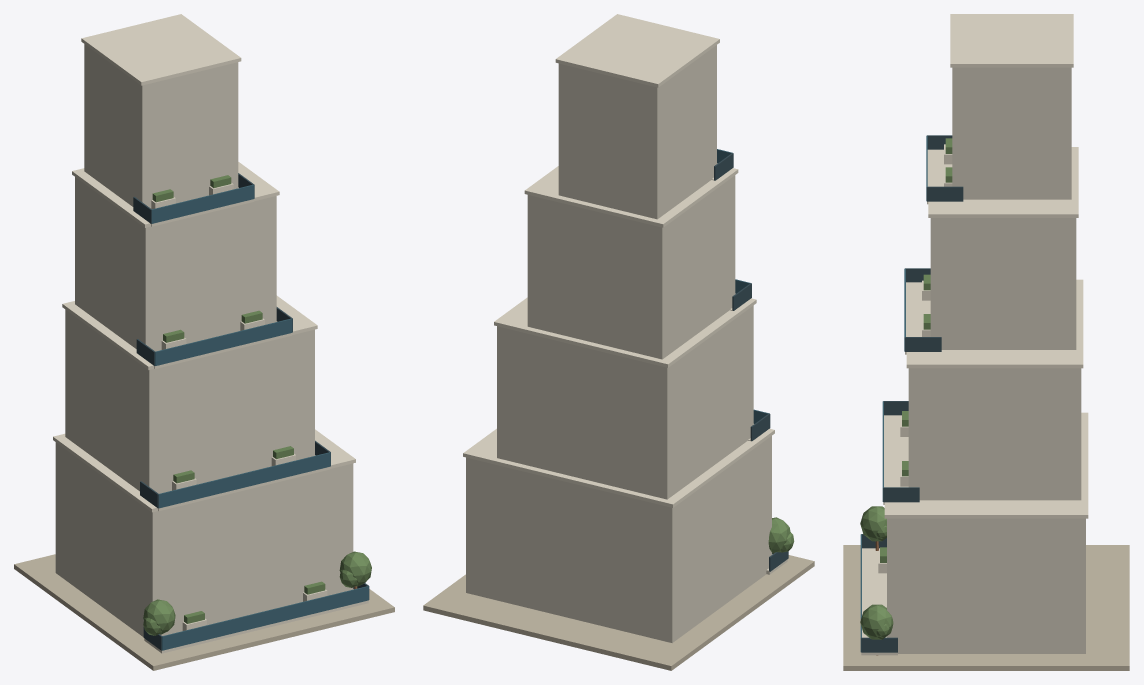
Rendered from terrace-tower_lod.glb.
The picture shows the model from 3 angles, left to right: view 1: azimuth 30°, elevation 25°; view 2: azimuth 150°, elevation 25°; view 3: azimuth 270°, elevation 25°; orthographic projection. The views are drawn at different scales.
Parts seen in each view (by area): view 1: terrace_tower_Building_Volume, terrace_tower_Building_Volume.001, terrace_tower_Building_Volume.002, terrace_tower_Building_Volume.003, terrace_tower_Site_Paving, terrace_tower_Roof_Coping.003, terrace_tower_Balcony_Glass, terrace_tower_Balcony_Glass.001, terrace_tower_Balcony_Glass.002, terrace_tower_Roof_Coping, terrace_tower_Roof_Coping.001, terrace_tower_Balcony_Glass.003 (+5 smaller); view 2: terrace_tower_Building_Volume, terrace_tower_Building_Volume.001, terrace_tower_Building_Volume.002, terrace_tower_Building_Volume.003, terrace_tower_Site_Paving, terrace_tower_Roof_Coping.003, terrace_tower_Roof_Coping, terrace_tower_Roof_Coping.001, terrace_tower_Roof_Coping.002; view 3: terrace_tower_Building_Volume, terrace_tower_Building_Volume.001, terrace_tower_Building_Volume.002, terrace_tower_Building_Volume.003, terrace_tower_Site_Paving, terrace_tower_Roof_Coping.003, terrace_tower_Roof_Coping, terrace_tower_Roof_Coping.001, terrace_tower_Roof_Coping.002, terrace_tower_Balcony_Slab.001, terrace_tower_Balcony_Slab, terrace_tower_Balcony_Slab.002 (+7 smaller).
Part boxes in pixels (<box>): terrace_tower_Building_Volume: <box>55,442,353,636</box>; terrace_tower_Building_Volume.001: <box>65,309,314,493</box>; terrace_tower_Building_Volume.002: <box>75,177,276,351</box>; terrace_tower_Building_Volume.003: <box>84,44,238,208</box>; terrace_tower_Site_Paving: <box>14,554,394,670</box>; terrace_tower_Roof_Coping.003: <box>81,14,241,85</box>; terrace_tower_Balcony_Glass: <box>162,586,368,650</box>; terrace_tower_Balcony_Glass.001: <box>158,452,330,508</box>; terrace_tower_Balcony_Glass.002: <box>155,318,292,365</box>; terrace_tower_Roof_Coping: <box>53,429,355,512</box>; terrace_tower_Roof_Coping.001: <box>62,295,317,369</box>; terrace_tower_Balcony_Glass.003: <box>151,184,254,223</box>; terrace_tower_Building_Volume: <box>466,436,771,642</box>; terrace_tower_Building_Volume.001: <box>497,305,753,499</box>; terrace_tower_Building_Volume.002: <box>527,175,735,359</box>; terrace_tower_Building_Volume.003: <box>558,45,716,219</box>; terrace_tower_Site_Paving: <box>423,555,814,670</box>; terrace_tower_Roof_Coping.003: <box>555,14,719,87</box>; terrace_tower_Roof_Coping: <box>463,428,774,507</box>; terrace_tower_Roof_Coping.001: <box>494,297,756,367</box>; terrace_tower_Roof_Coping.002: <box>524,166,738,227</box>; terrace_tower_Building_Volume: <box>887,518,1085,653</box>; terrace_tower_Building_Volume.001: <box>908,368,1081,500</box>; terrace_tower_Building_Volume.002: <box>930,218,1076,349</box>; terrace_tower_Building_Volume.003: <box>952,67,1071,199</box>; terrace_tower_Site_Paving: <box>843,545,1129,670</box>; terrace_tower_Roof_Coping.003: <box>950,14,1073,67</box>; terrace_tower_Roof_Coping: <box>884,412,1088,518</box>; terrace_tower_Roof_Coping.001: <box>906,279,1083,368</box>; terrace_tower_Roof_Coping.002: <box>928,147,1078,217</box>; terrace_tower_Balcony_Slab.001: <box>883,415,908,504</box>; terrace_tower_Balcony_Slab: <box>861,548,897,655</box>; terrace_tower_Balcony_Slab.002: <box>905,282,930,354</box>.
Bounding box in the file's own units: 11.8 × 25.26 × 11.8.
